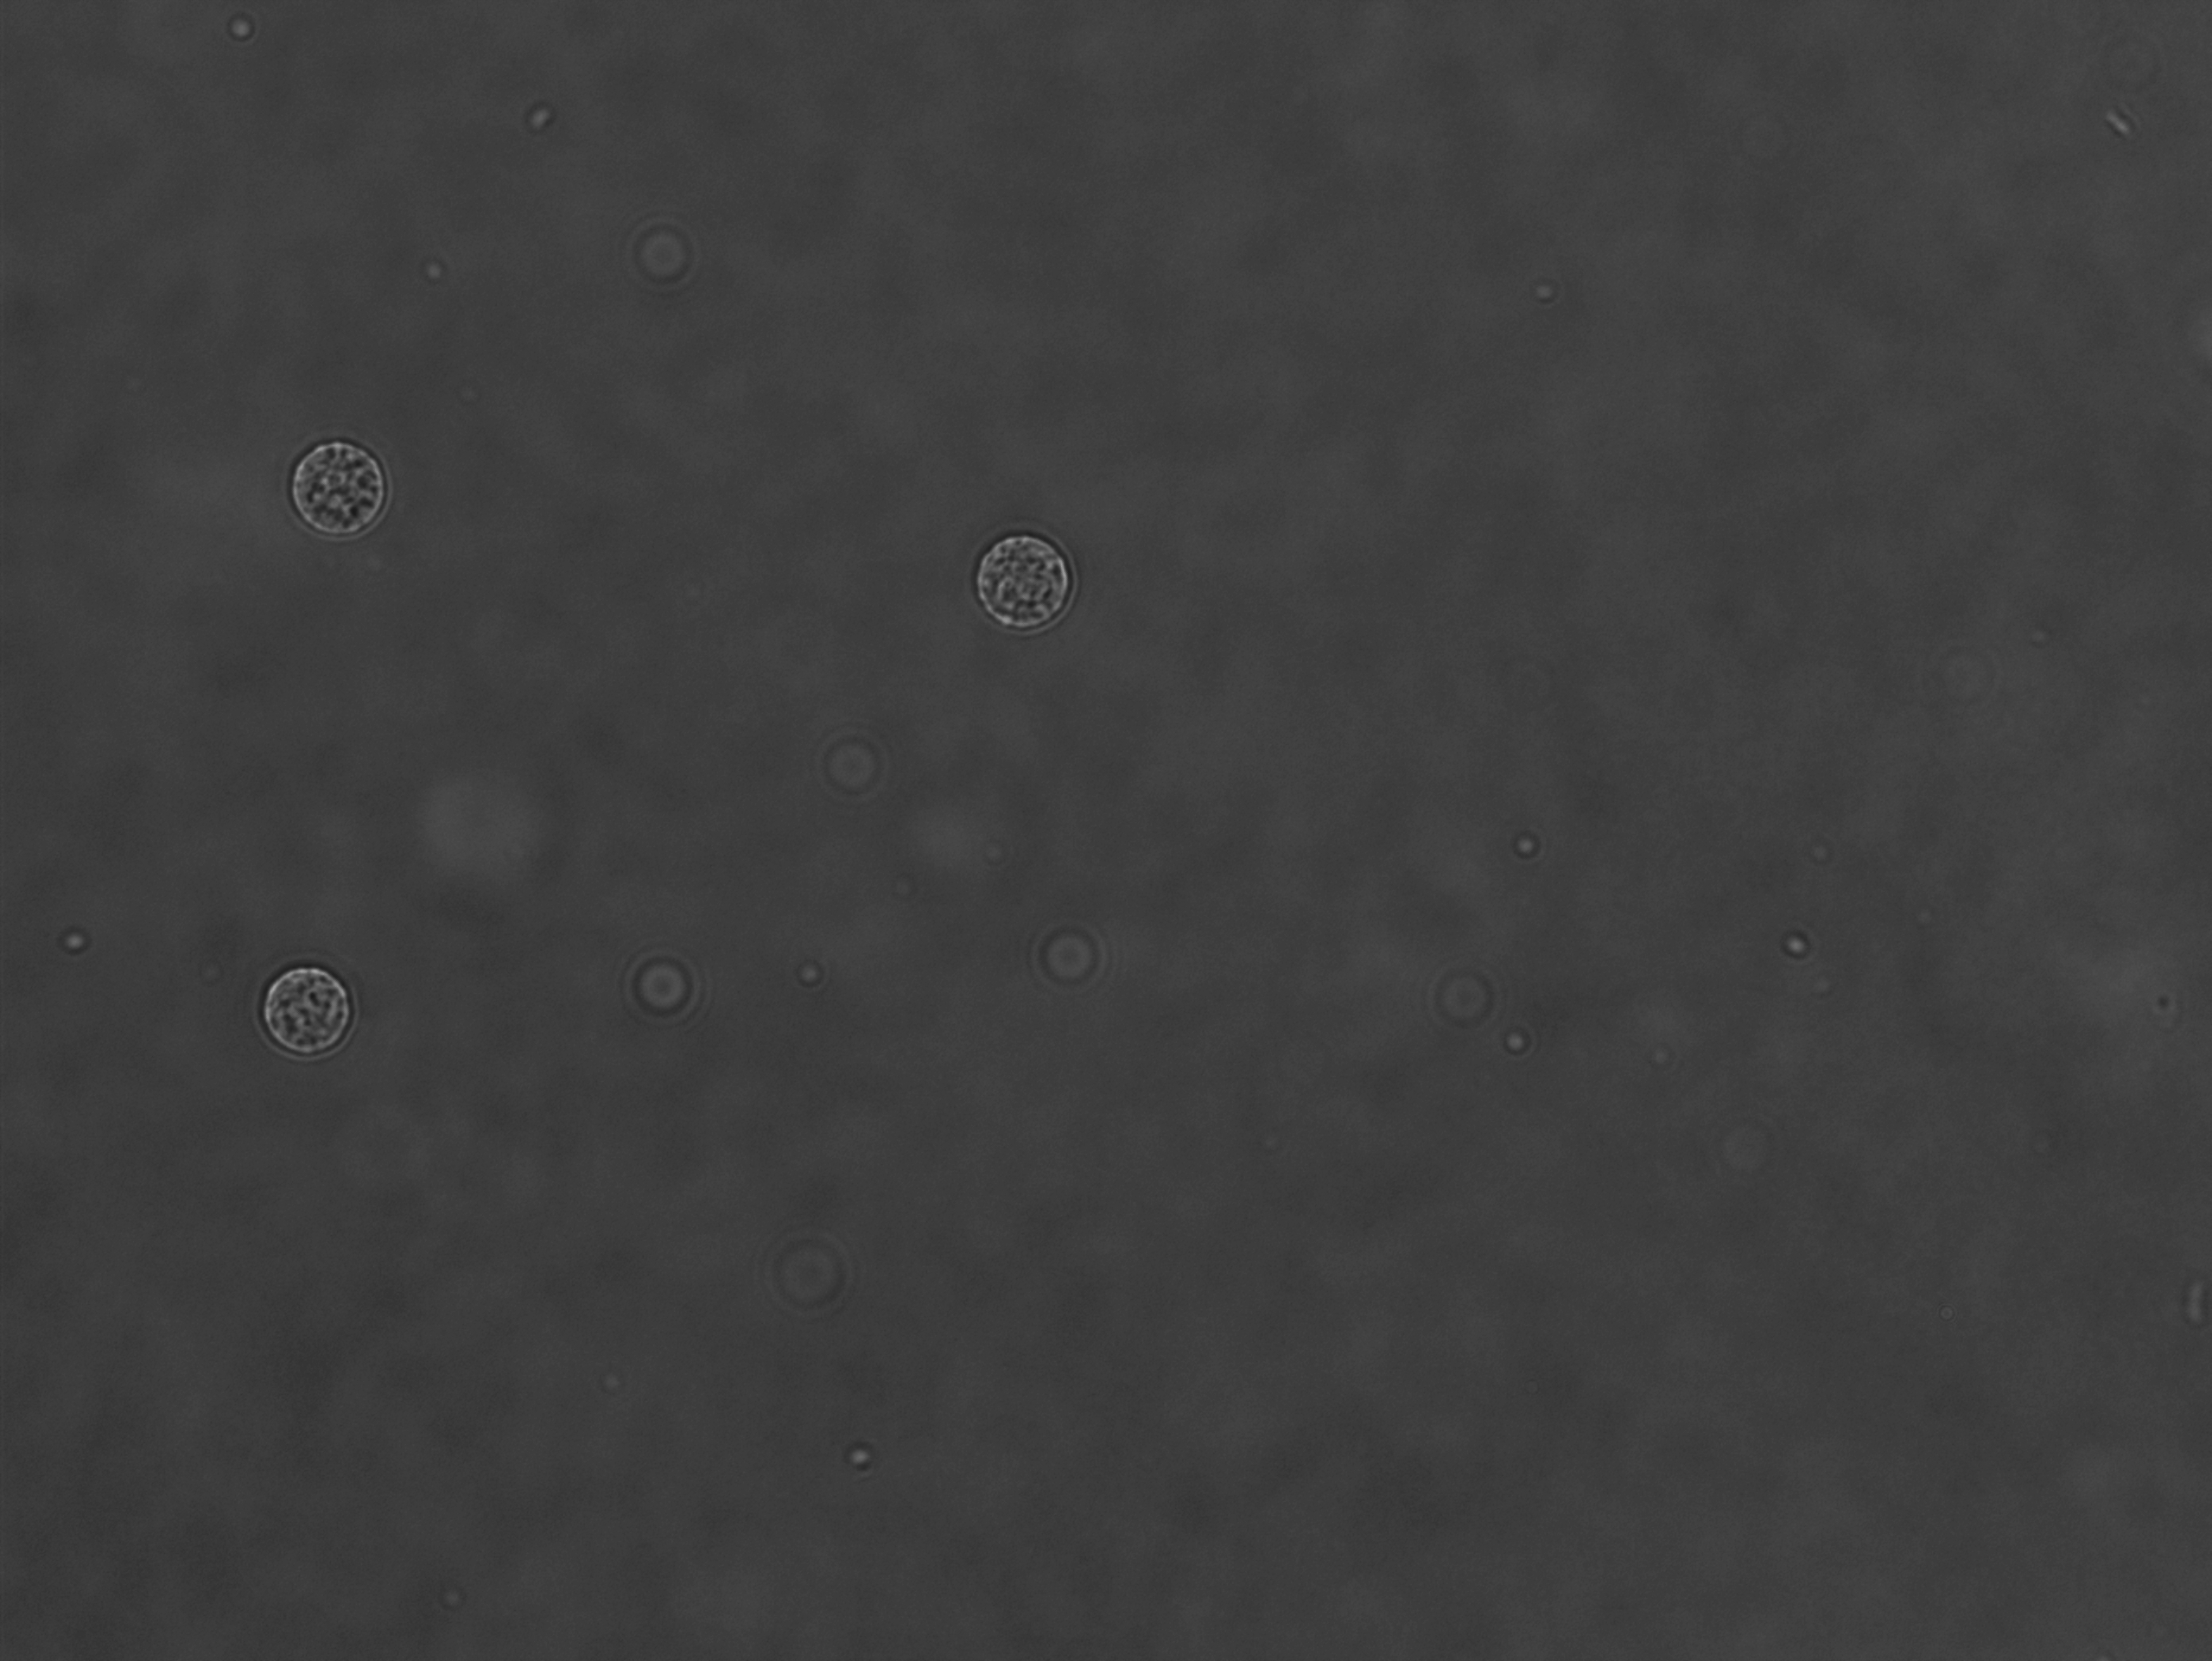depth:0: (216, 940, 389, 1070), (958, 502, 1099, 647), (276, 410, 405, 551)
